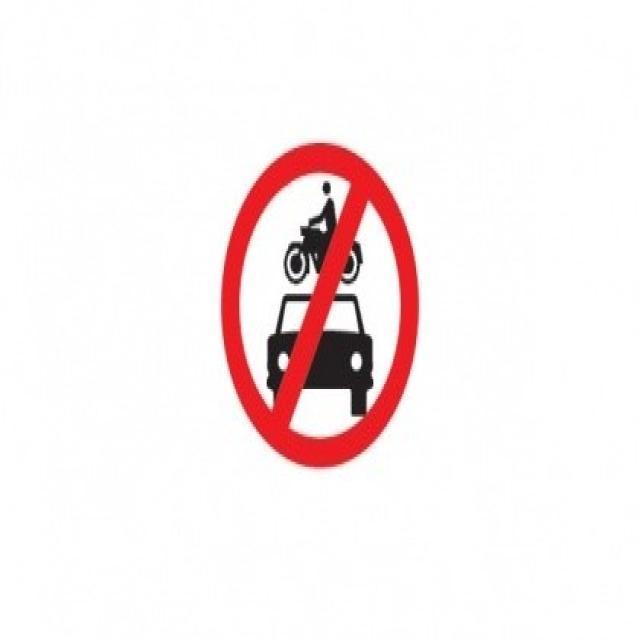all motor vehicle prohibited: (214, 130, 427, 483)
